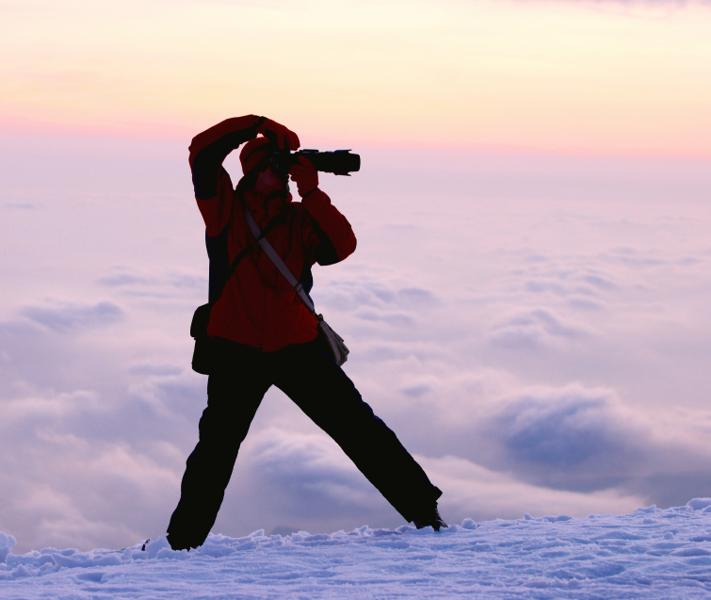person: (142, 115, 451, 549)
